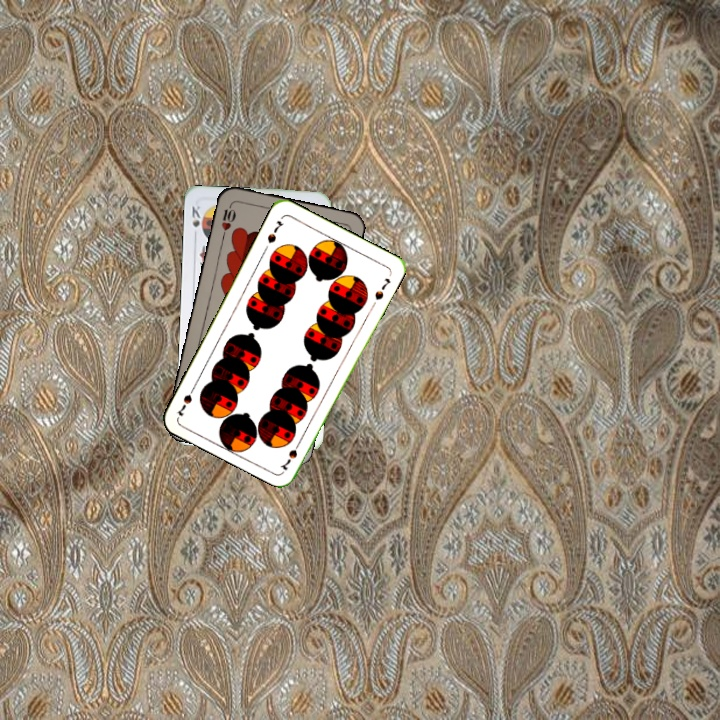H10: (217, 200, 238, 240)
S7: (277, 435, 304, 473), (263, 217, 287, 246)
SK: (188, 200, 204, 230)
